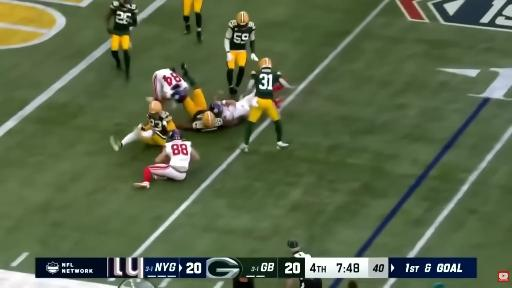Helmet: (172, 84, 187, 103), (202, 111, 215, 128), (209, 102, 222, 116), (167, 129, 181, 142), (237, 12, 249, 25), (149, 101, 162, 113), (259, 58, 272, 68)
Jersey: (153, 69, 188, 102), (251, 68, 281, 99), (111, 1, 137, 35), (226, 20, 255, 50), (222, 93, 254, 120), (166, 140, 191, 170), (192, 110, 223, 131), (147, 112, 171, 138)
Player: (242, 58, 293, 151), (154, 63, 219, 129), (134, 130, 199, 187), (110, 101, 176, 150), (177, 92, 255, 131), (225, 12, 258, 96), (177, 95, 253, 131), (107, 0, 137, 79), (153, 68, 189, 106), (183, 0, 202, 42)
